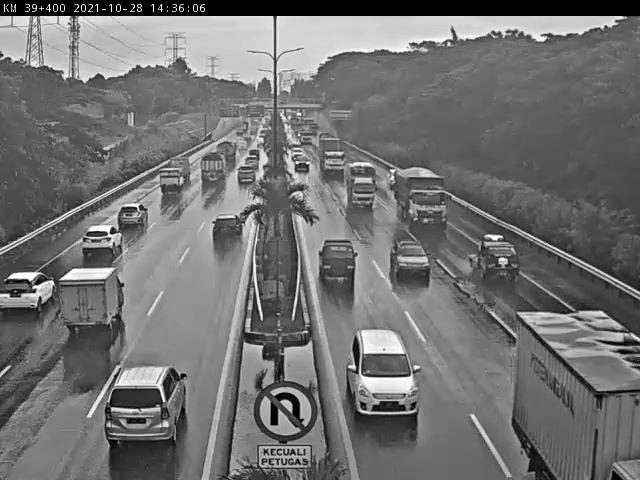big truck: (96, 363, 178, 436), (399, 172, 444, 222), (320, 137, 348, 178), (201, 155, 227, 191)
car: (351, 326, 420, 412), (455, 230, 514, 274), (71, 227, 122, 269), (382, 234, 430, 278), (205, 218, 249, 260), (322, 225, 352, 282), (7, 267, 33, 316), (108, 202, 147, 234), (295, 158, 308, 172), (242, 172, 252, 185)
small bus: (347, 165, 372, 209)
small truck: (488, 295, 639, 470), (55, 284, 113, 355), (159, 167, 184, 196)
